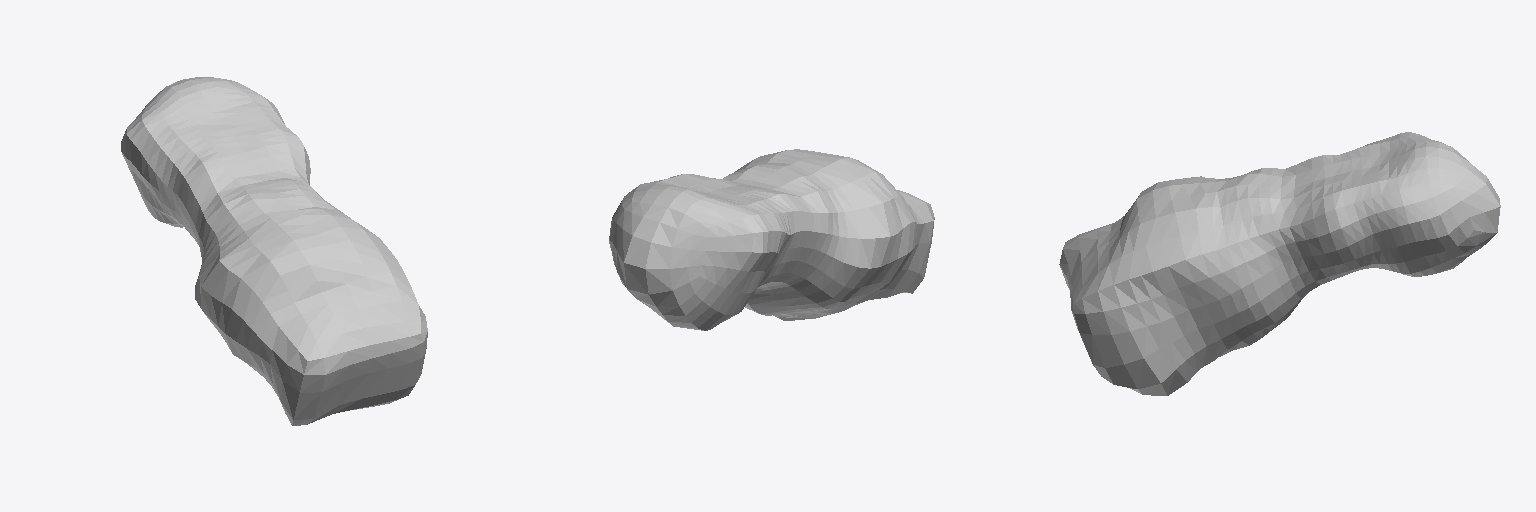
The model's file is PM3D_rock032_011.OBJ.
3 renders of one model, left to right at view 1: azimuth 30°, elevation 25°; view 2: azimuth 150°, elevation 25°; view 3: azimuth 270°, elevation 25°, orthographic.
Parts seen in each view (by area): view 1: Group40050; view 2: Group40050; view 3: Group40050.
Boxes of the visible parts, x1,y1,x2,y2 form: Group40050: [121, 77, 427, 425]; Group40050: [609, 149, 934, 330]; Group40050: [1059, 132, 1500, 395].
Size of the model in its own units: 2063 by 2553 by 4445.